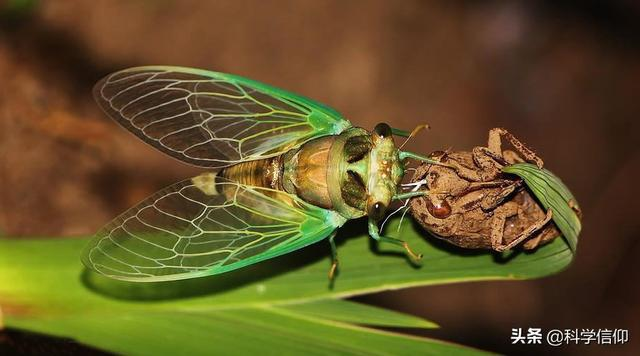chan: (88, 61, 417, 291)
